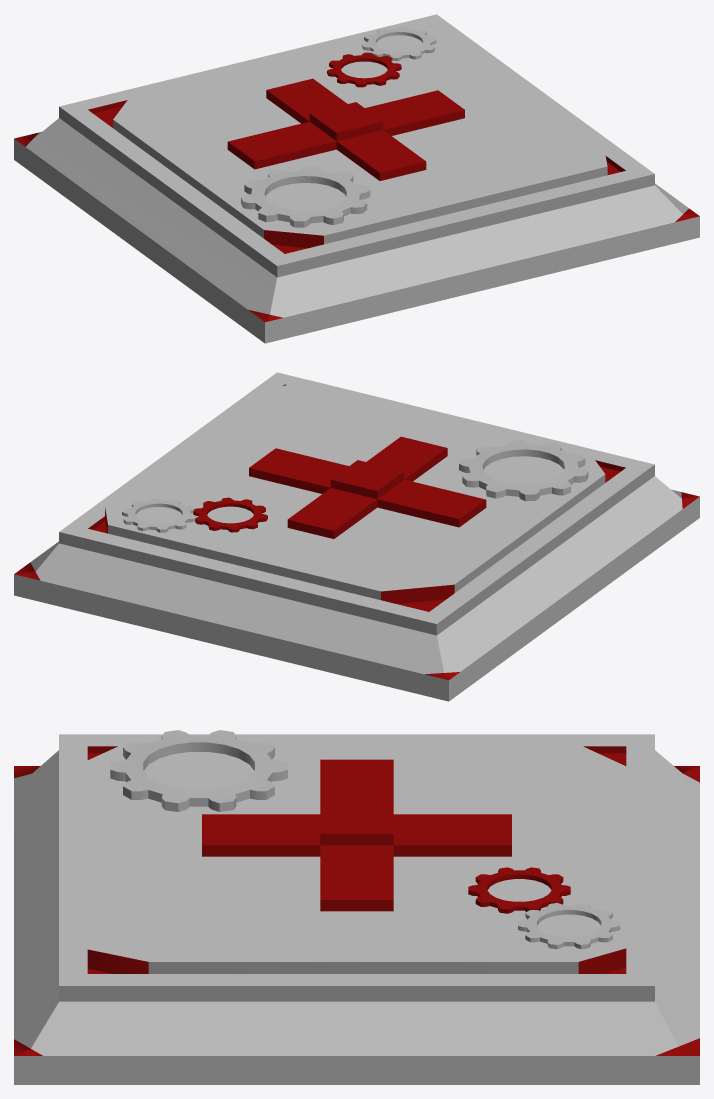
File: Medkit.fbx
The picture shows the model from 3 angles, top to bottom: view 1: azimuth 30°, elevation 25°; view 2: azimuth 150°, elevation 25°; view 3: azimuth 270°, elevation 25°; orthographic projection. The views are drawn at different scales.
Visible parts, largest first — view 1: polySurface2; view 2: polySurface2; view 3: polySurface2.
Boxes of the visible parts, box(x1,y1,x2,y2) form: polySurface2: box(14, 14, 699, 343); polySurface2: box(14, 372, 699, 701); polySurface2: box(14, 730, 699, 1084).
Size of the model in its own units: 9.19 by 1.69 by 9.19.
